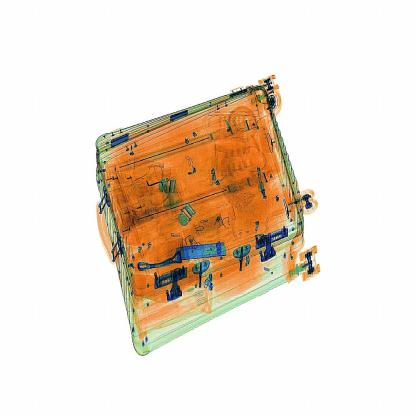pliers: (174, 242, 232, 261)
